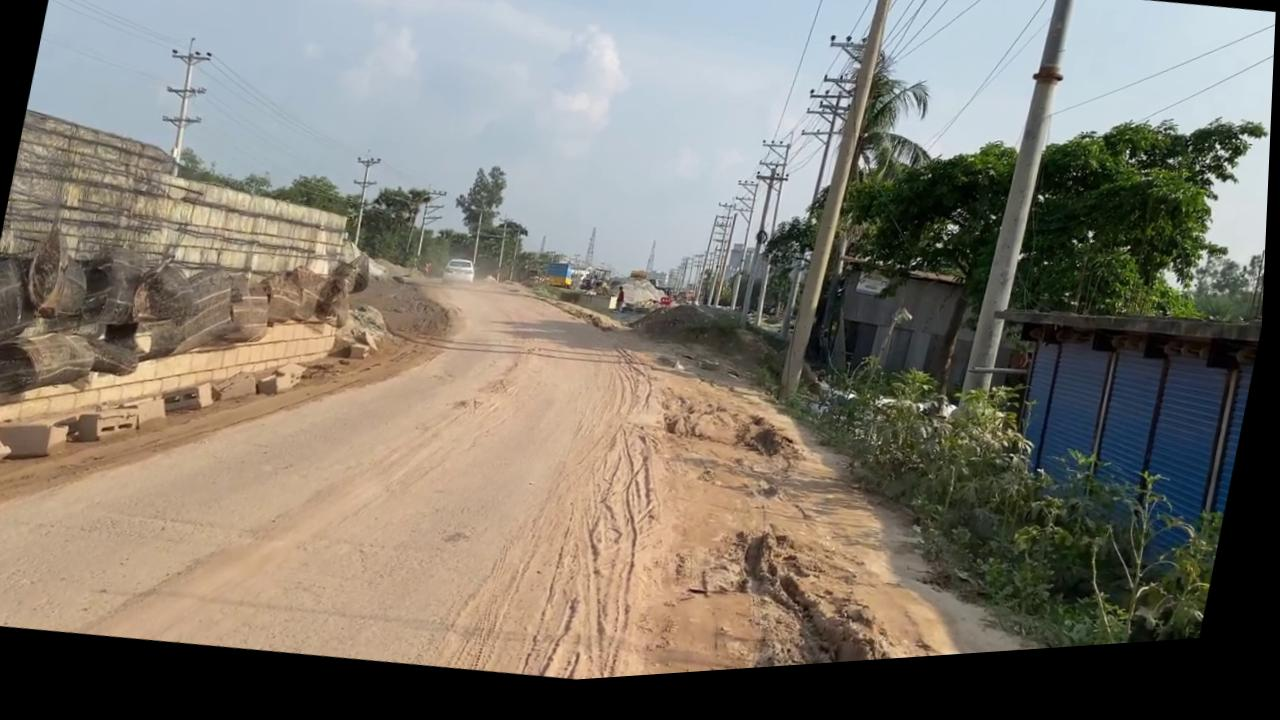Car: (443, 261, 481, 294)
Curb: (0, 263, 383, 439)
Fence: (0, 89, 376, 312)
Obstacle: (0, 413, 73, 466)
Pole: (962, 3, 1079, 424), (779, 0, 895, 417)
Rickshaw: (502, 291, 1054, 692)
Traffic-sign: (748, 34, 957, 394), (445, 164, 513, 277)
Tree: (540, 261, 627, 324), (577, 270, 617, 305), (546, 265, 580, 298)
